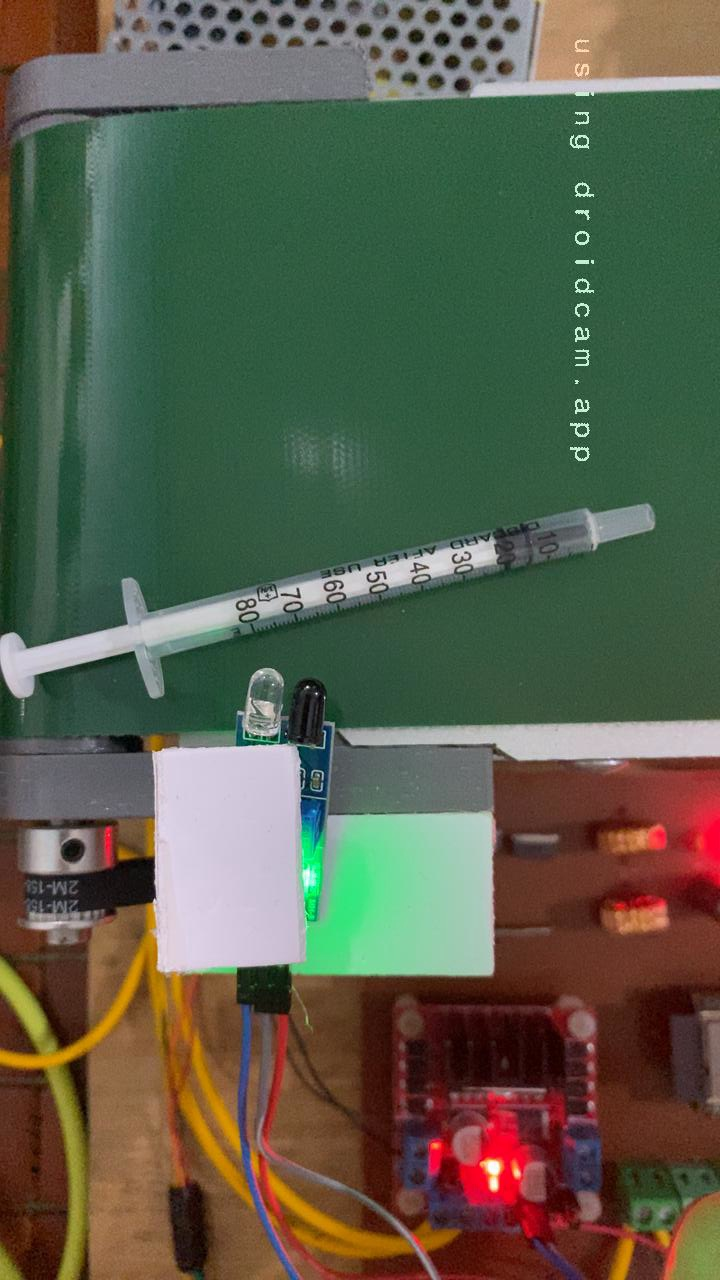syringe: (0, 498, 664, 708)
